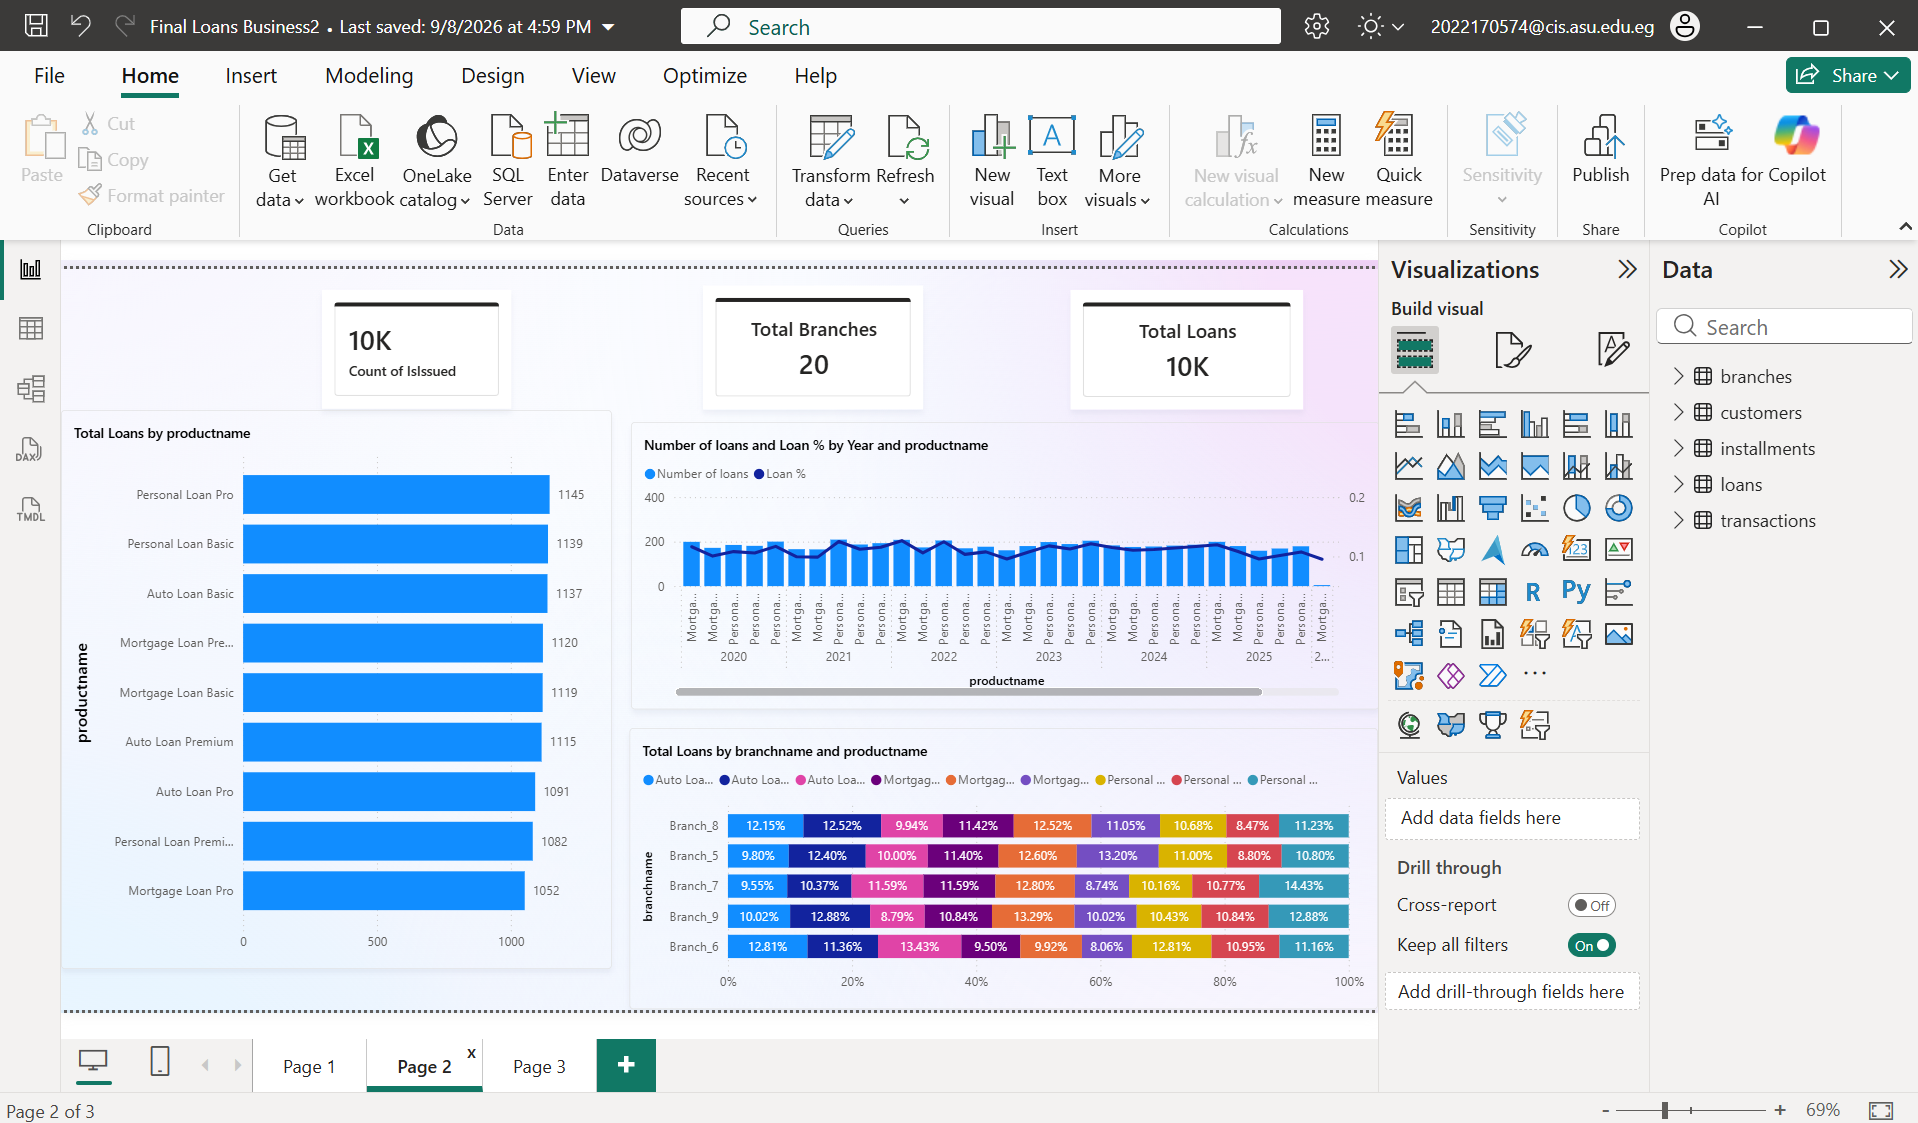

Layout of this report page (visuals, bound fields, positions):
{"tool":"powerbi","page":{"name":"Page 1","canvas":[1280,720],"ordinal":2},"visuals":[{"type":"cardVisual","fields":{"Data":["branches.Total Loans"]},"box":[981.4,20.6,226.4,116.6],"z":0},{"type":"hundredPercentStackedBarChart","fields":{"Category":["branches.branchname"],"Series":["loans.productname"],"Y":["branches.Total Loans"]},"box":[552.7,446.3,727.3,273.2],"z":1000},{"type":"cardVisual","fields":{"Data":["branches.Total Branches"]},"box":[624.1,15.9,214.1,120.8],"z":2000},{"type":"lineClusteredColumnComboChart","fields":{"Category":["loans.Applydate.Variation.Date Hierarchy.Year","loans.productname"],"Y":["branches.Number of loans"],"Y2":["branches.Loan %"]},"box":[553.3,148.3,727.3,279.5],"z":3000},{"type":"cardVisual","fields":{"Data":["CountNonNull(loans.IsIssued)"]},"box":[254.1,20.6,184.2,115.9],"z":4000},{"type":"clusteredBarChart","fields":{"Category":["loans.productname"],"Y":["branches.Total Loans"]},"box":[0,136.6,535.2,543.1],"z":5000}]}

Visuals, with their boxes on the page's 1280x720 design canvas (x1, y1, x2, y2). These are canvas units, not pixel positions in the 1918x1123 screenshot, which may show the page scaled, cropped or inside an application window:
cardVisual - branches.Total Loans: [981, 21, 1208, 137]
hundredPercentStackedBarChart - branches.branchname x loans.productname: [553, 446, 1280, 720]
cardVisual - branches.Total Branches: [624, 16, 838, 137]
lineClusteredColumnComboChart - loans.Applydate.Variation.Date Hierarchy.Year x loans.productname: [553, 148, 1281, 428]
cardVisual - CountNonNull(loans.IsIssued): [254, 21, 438, 136]
clusteredBarChart - loans.productname x branches.Total Loans: [0, 137, 535, 680]
